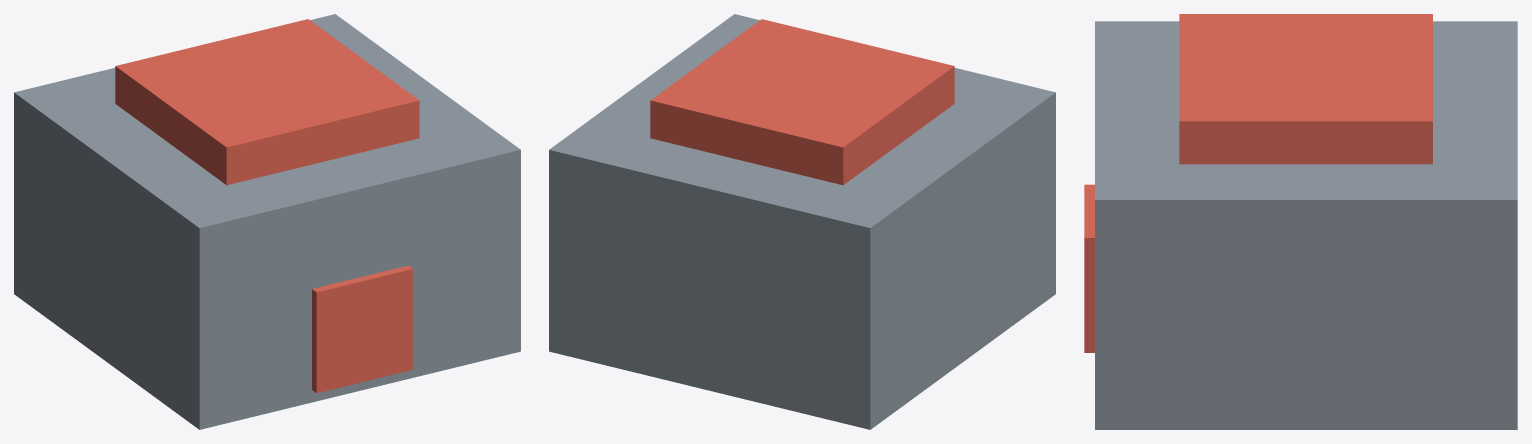
File: SU_GunTurret_LOD0.glb
3 renders of one model, left to right at view 1: azimuth 30°, elevation 25°; view 2: azimuth 150°, elevation 25°; view 3: azimuth 270°, elevation 25°, orthographic. The views are drawn at different scales.
Parts seen in each view (by area): view 1: EntranceGate; view 2: EntranceGate; view 3: EntranceGate.
Boxes of the visible parts, x1,y1,x2,y2 form: EntranceGate: (14, 14, 520, 429); EntranceGate: (549, 14, 1055, 429); EntranceGate: (1084, 14, 1517, 429).
Bounding box in the file's own units: 400 × 285 × 410.
